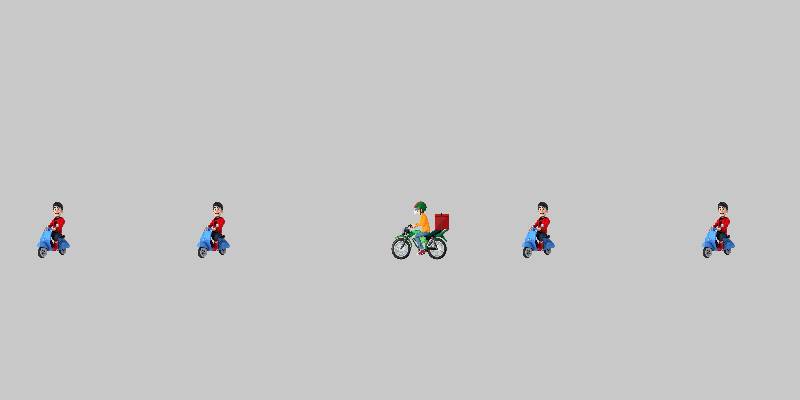helmet: (390, 200, 450, 260)
no_helmet: (25, 200, 85, 260), (185, 200, 245, 260), (510, 200, 570, 260), (690, 200, 750, 260)
